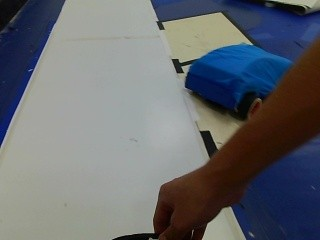car: (181, 40, 261, 119)
